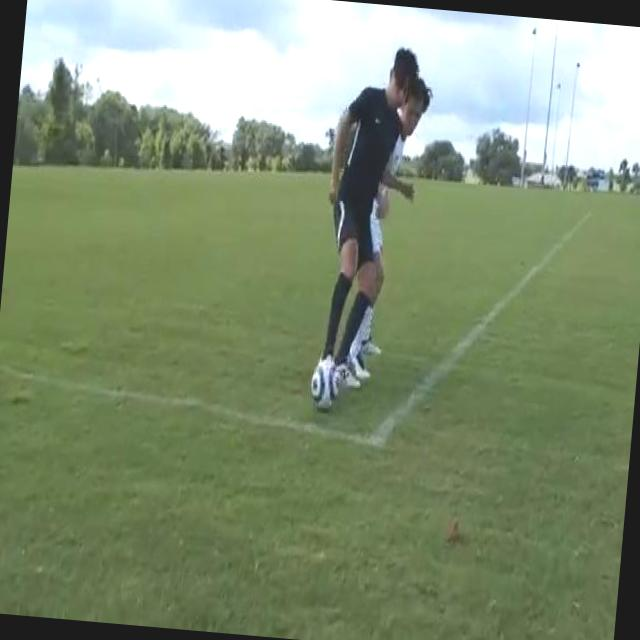Soccer Ball: (308, 354, 342, 411)
